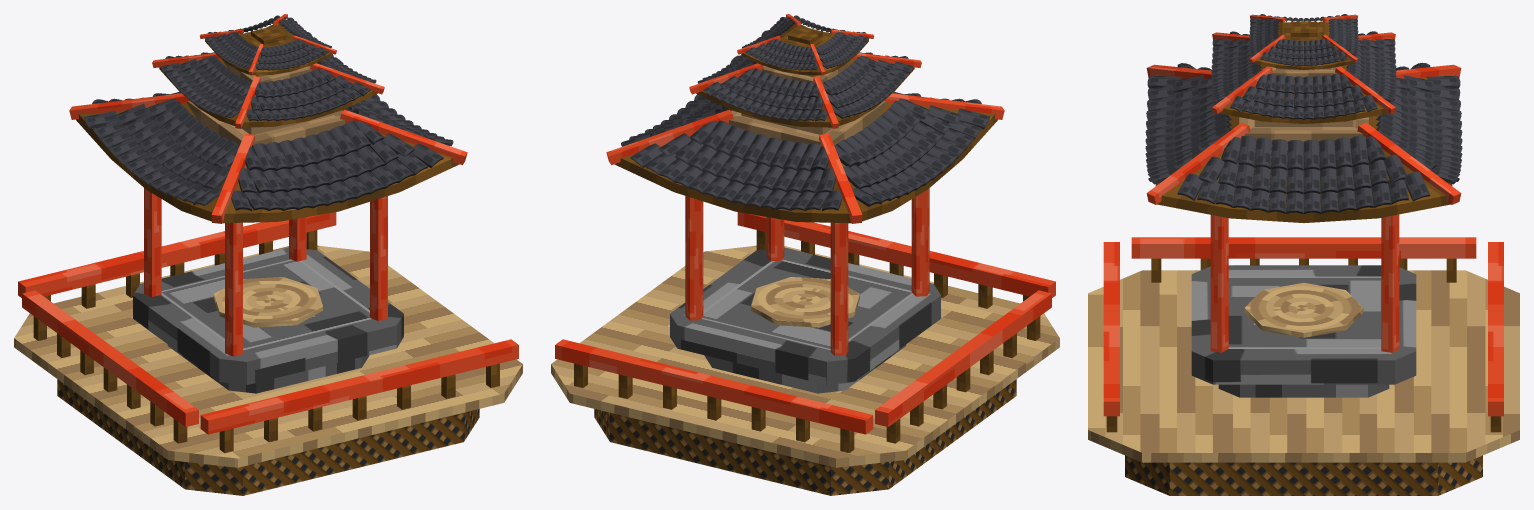
The model's file is Altar.FBX.
3 views of the same model, side by side, from view 1: azimuth 30°, elevation 25°; view 2: azimuth 150°, elevation 25°; view 3: azimuth 270°, elevation 25° (orthographic). The views are drawn at different scales.
Visible parts, largest first — view 1: Box767, Maderas, TechoAltar, Base, Techo, TechoAltar003, TechoAltar004, Box1162, Box1163, Box1165; view 2: Box767, Maderas, TechoAltar, Base, Techo, TechoAltar003, TechoAltar004, Box1164, Box1165, Box1163; view 3: Box767, TechoAltar, Maderas, Base, Techo, TechoAltar003, TechoAltar004, Box1162, Box1164, Box1163, Box1165, Box1174 (+1 smaller).
Part boxes in pixels (<box>): Box767: <box>14,245,522,467</box>; Maderas: <box>18,188,518,452</box>; TechoAltar: <box>84,59,453,211</box>; Base: <box>57,379,479,495</box>; Techo: <box>76,19,459,223</box>; TechoAltar003: <box>160,32,376,121</box>; TechoAltar004: <box>204,15,331,70</box>; Box1162: <box>340,109,467,164</box>; Box1163: <box>211,133,254,223</box>; Box1165: <box>69,93,190,119</box>; Box767: <box>551,245,1059,467</box>; Maderas: <box>555,188,1055,452</box>; TechoAltar: <box>621,55,990,211</box>; Base: <box>594,379,1016,495</box>; Techo: <box>614,19,997,223</box>; TechoAltar003: <box>697,30,913,121</box>; TechoAltar004: <box>742,15,869,70</box>; Box1164: <box>606,109,733,164</box>; Box1165: <box>819,133,862,223</box>; Box1163: <box>883,93,1004,119</box>; Box767: <box>1088,265,1519,462</box>; TechoAltar: <box>1145,62,1462,214</box>; Maderas: <box>1103,214,1503,432</box>; Base: <box>1125,455,1482,495</box>; Techo: <box>1155,21,1452,222</box>; TechoAltar003: <box>1211,31,1396,119</box>; TechoAltar004: <box>1249,14,1358,65</box>; Box1162: <box>1146,122,1250,204</box>; Box1164: <box>1357,122,1461,204</box>; Box1163: <box>1146,64,1211,79</box>; Box1165: <box>1396,64,1461,78</box>; Box1174: <box>1212,66,1272,114</box>.
Bounding box in the file's own units: 8 × 8.05 × 8.
Materials: 5 (5 with a texture image).
